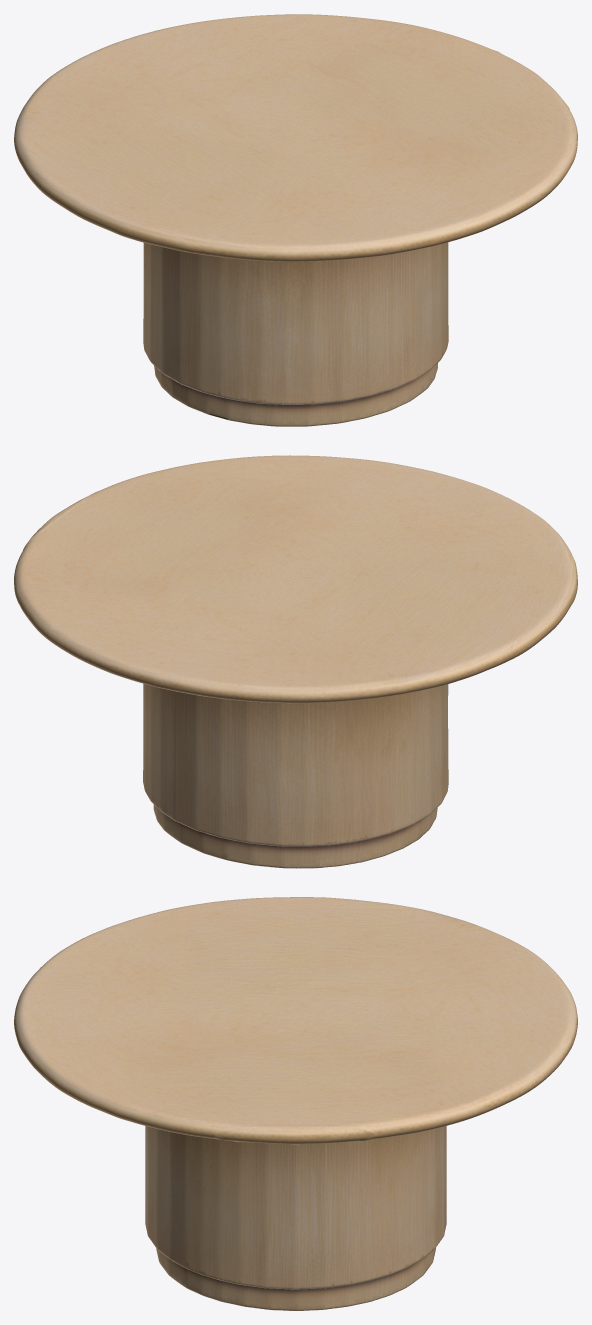
File: product-farmhouse-nina-round-coffee-table-white-wash-36-smooth-finish-wood-bas-03.glb
3 views of the same model, one above another, from view 1: azimuth 30°, elevation 25°; view 2: azimuth 150°, elevation 25°; view 3: azimuth 270°, elevation 25° (orthographic).
Parts seen in each view (by area): view 1: geometry_0; view 2: geometry_0; view 3: geometry_0.
Part boxes in pixels (left/top/right/bottom): geometry_0: left=14, top=14, right=577, bottom=426; geometry_0: left=14, top=455, right=577, bottom=868; geometry_0: left=14, top=897, right=577, bottom=1310.
Bounding box in the file's own units: 1.97 × 0.9248 × 1.97.
Materials: 1 (1 with a texture image).
